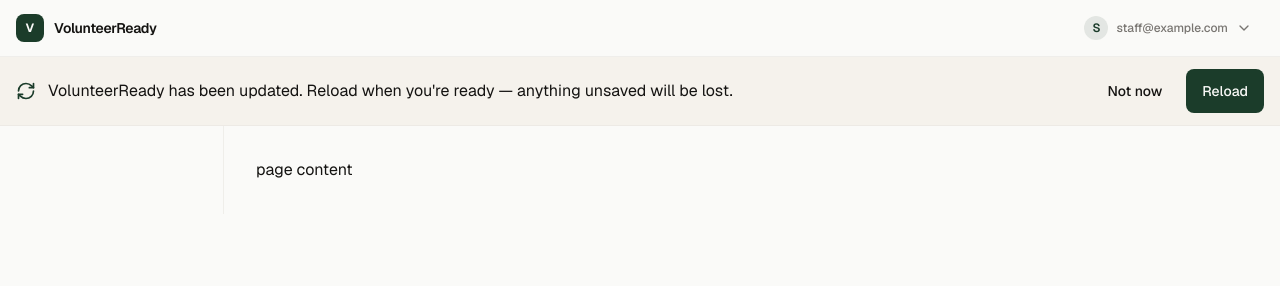
Scenario: the account-menu affordance › offers Update available with the version, for staff
What coordinates should you click on to do the following:
click the button "S staff@example.com"
I would click on:
 (1168, 28)
Its box is left=1072, top=12, right=1264, bottom=44.
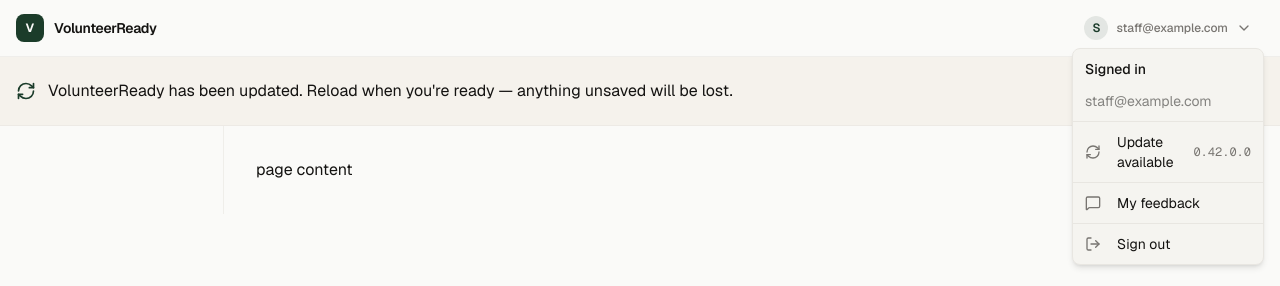
Result: the text "Update available" is shown at left=1117, top=132, right=1177, bottom=172
Result: the text "0.42.0.0" is shown at left=1193, top=144, right=1251, bottom=160
